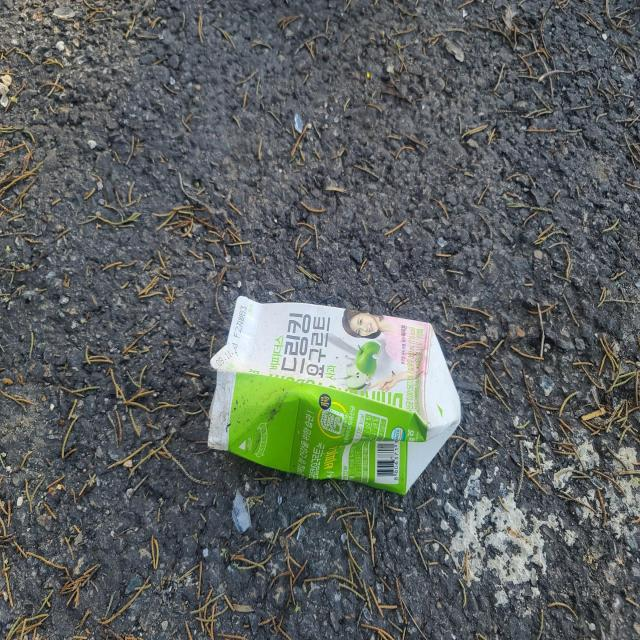paperpack: (207, 296, 461, 494)
